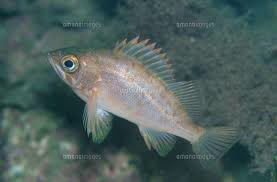mebaru: (39, 24, 232, 165)
